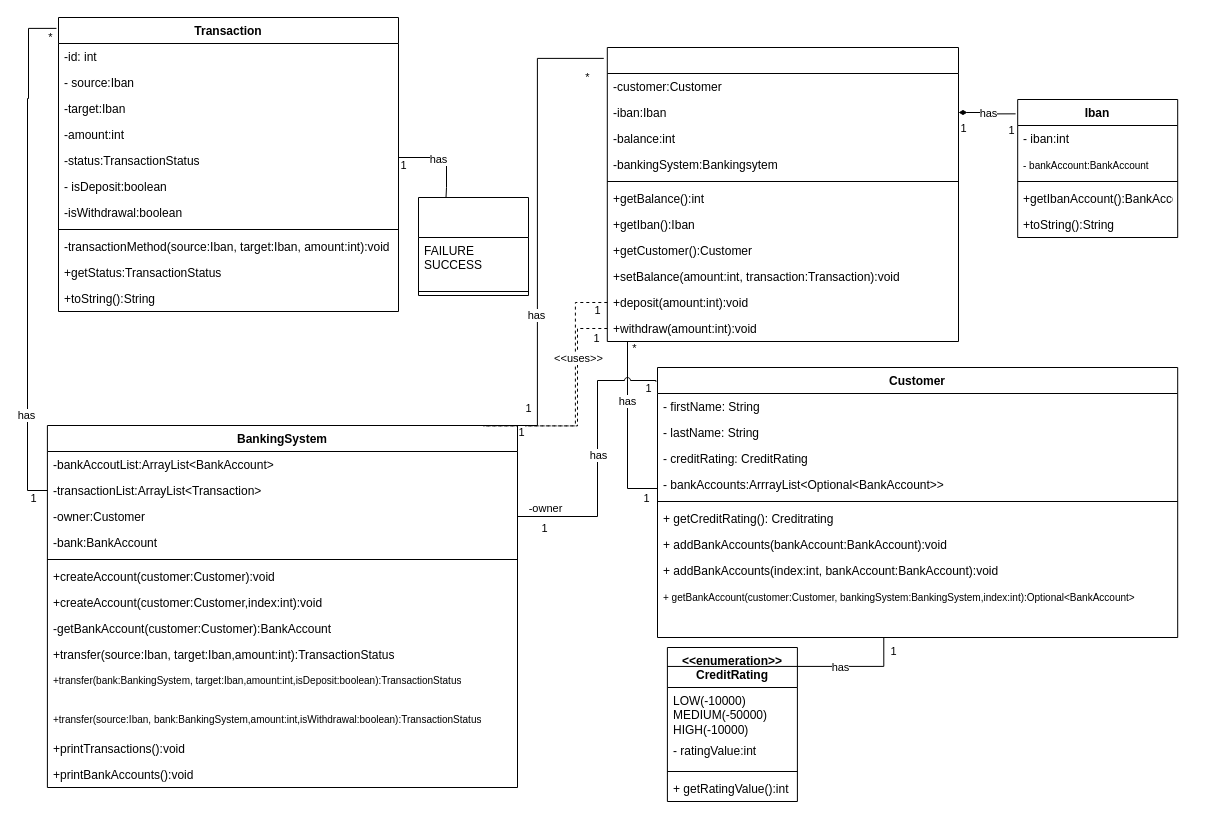
The diagram is 1212 pixels wide and 822 high, and some of its shapes have lost their labels. Each missing label, with the box of its shape:
<<enumeration>> TransactionStatus: (418, 196, 528, 296)
BankAccount: (606, 46, 958, 342)
